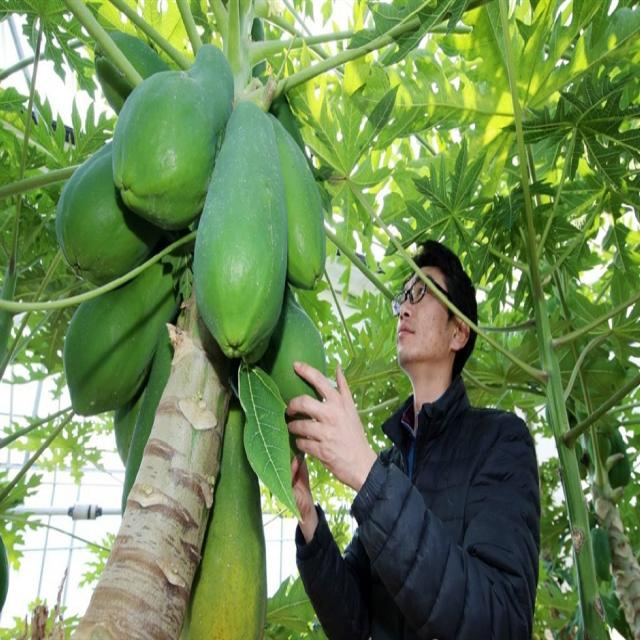Pepaya unrippen: (104, 25, 233, 251), (196, 106, 310, 359), (52, 255, 184, 413), (55, 158, 134, 284)
